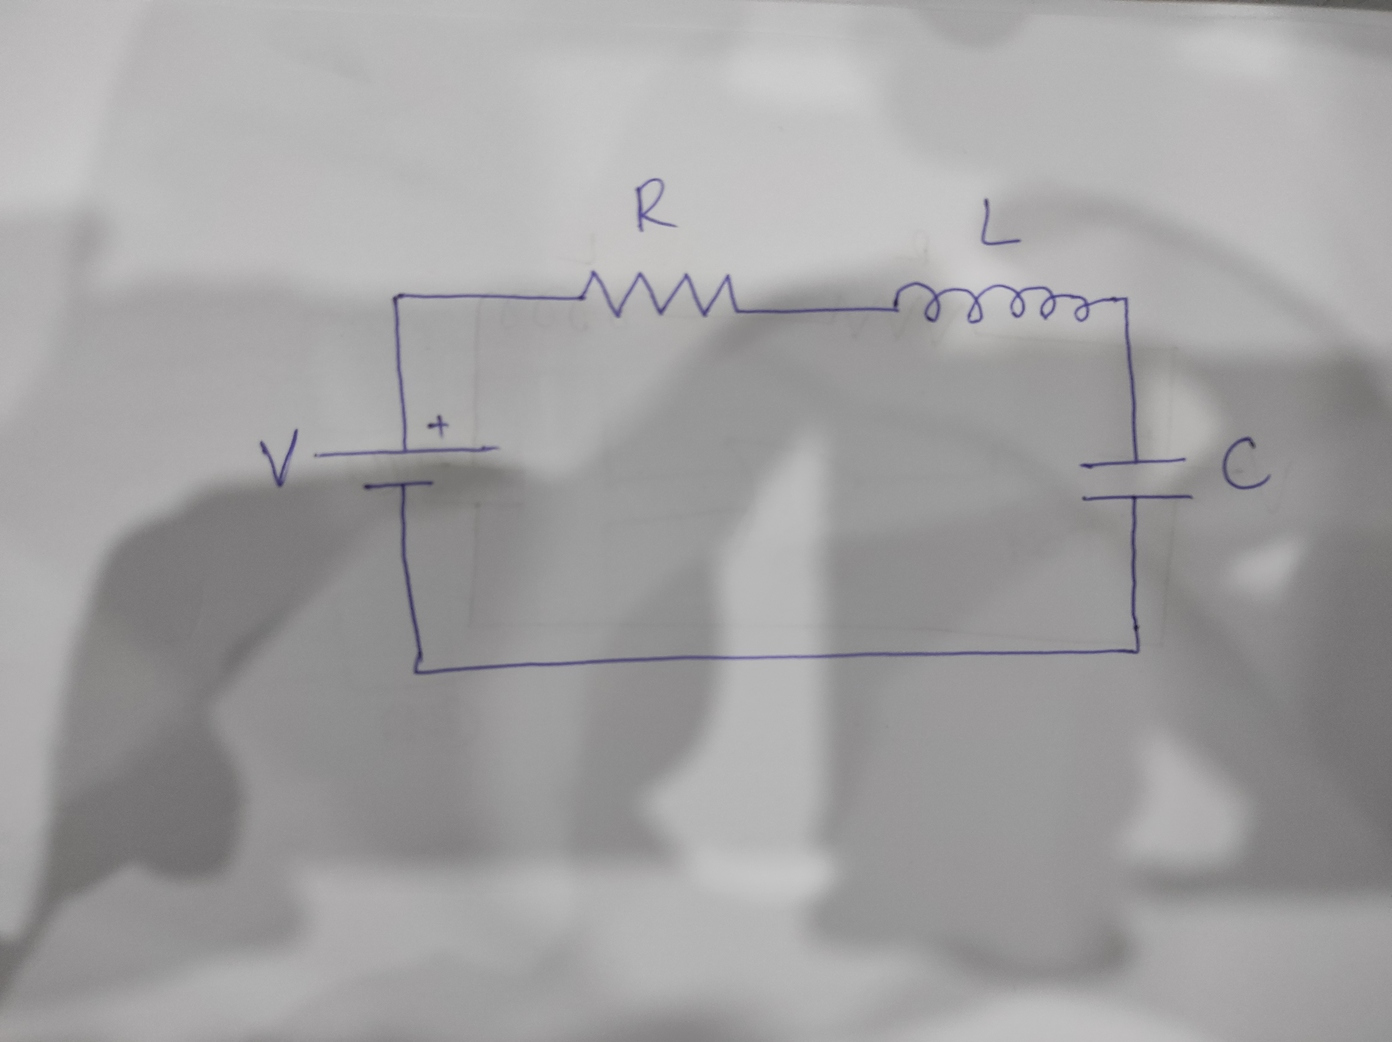capacitor.unpolarized: (1072, 449, 1195, 510)
inductor: (888, 278, 1102, 327)
junction: (405, 648, 437, 685), (1122, 637, 1152, 663), (1112, 290, 1135, 311), (386, 287, 408, 306)
resistor: (575, 262, 743, 324)
text: (630, 167, 681, 238), (1218, 435, 1273, 494), (976, 190, 1026, 253), (257, 427, 301, 486)
voltage.dc: (308, 412, 504, 496)
